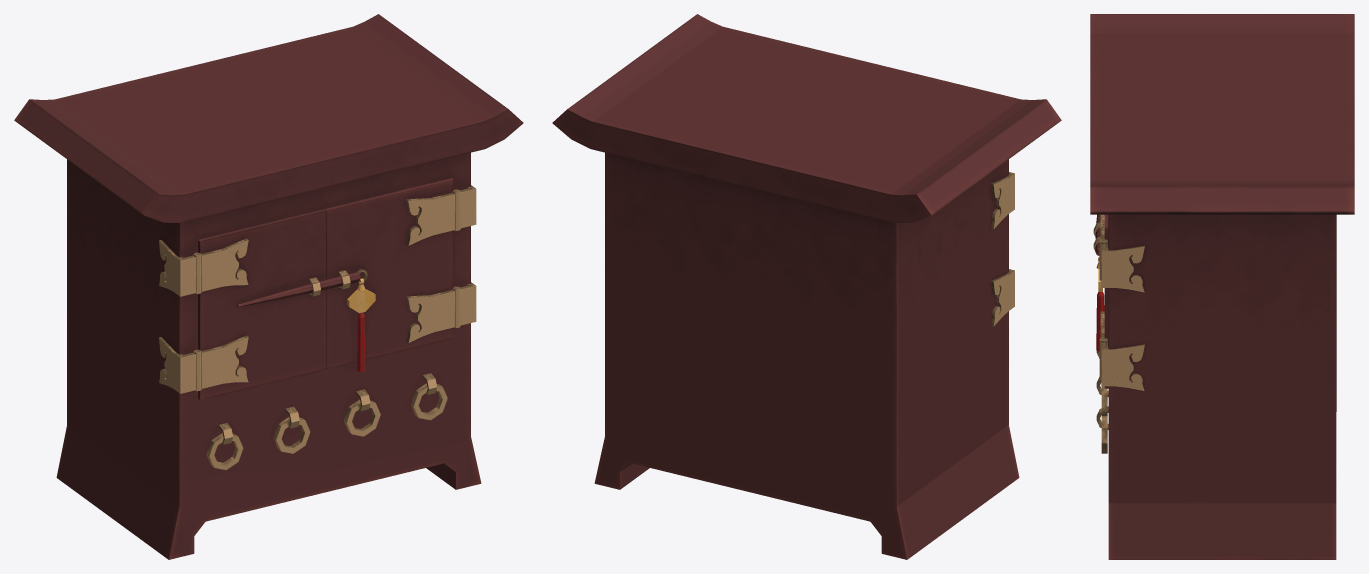
Rendered from storage.fbx.
3 renders of one model, left to right at view 1: azimuth 30°, elevation 25°; view 2: azimuth 150°, elevation 25°; view 3: azimuth 270°, elevation 25°, orthographic.
Visible parts, largest first — view 1: storage; view 2: storage; view 3: storage.
Boxes of the visible parts, box(x1,y1,x2,y2) form: storage: box(14, 14, 523, 559); storage: box(552, 14, 1061, 559); storage: box(1090, 14, 1354, 559).
Bounding box in the file's own units: 137 × 129 × 81.03.
